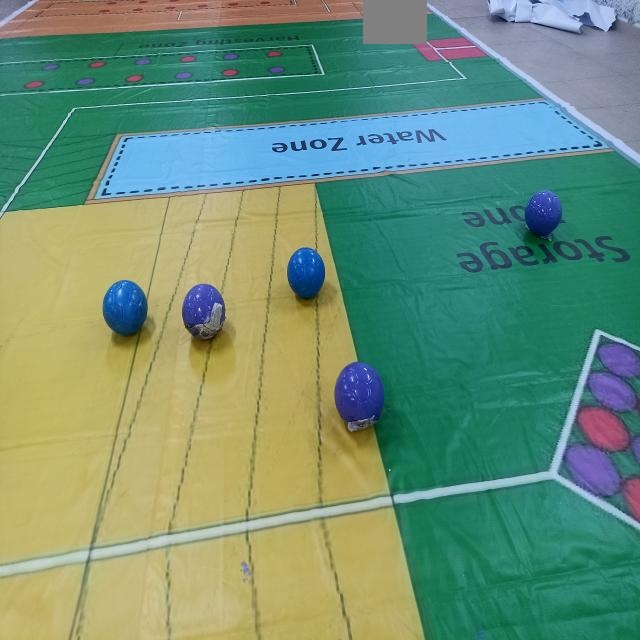blue_ball: (105, 282, 149, 336), (288, 248, 323, 299)
purple_ball: (336, 366, 381, 420), (183, 286, 222, 337), (529, 192, 559, 235)
